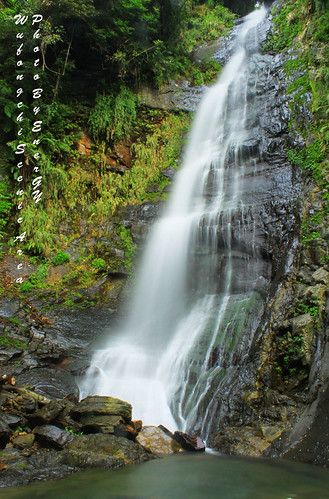wufengciWaterfall: (106, 11, 266, 425)
